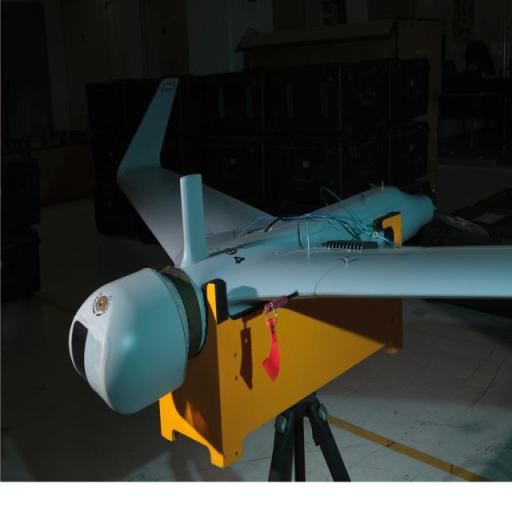uav: (60, 73, 512, 418)
